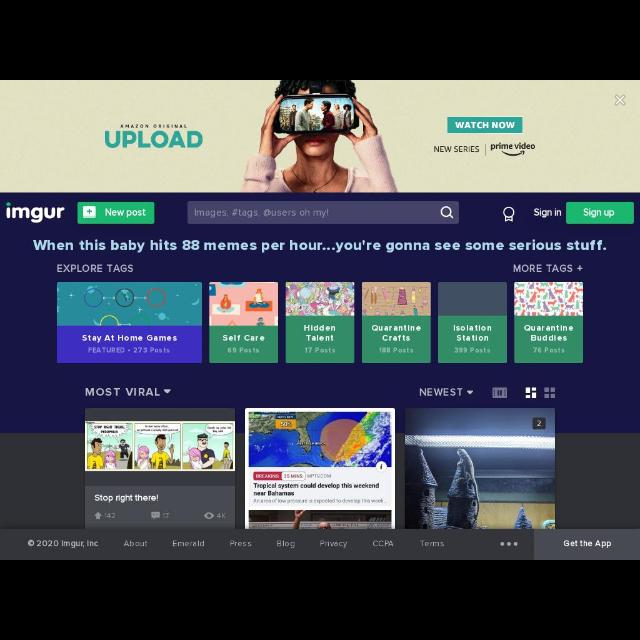icon: (502, 206, 516, 224), (440, 206, 454, 220), (492, 388, 508, 398), (524, 387, 536, 399), (500, 540, 518, 548), (84, 206, 95, 218), (545, 388, 555, 398), (151, 512, 159, 520), (204, 512, 214, 518), (95, 512, 102, 520), (163, 389, 170, 395), (577, 265, 583, 271), (465, 390, 473, 394)
iframe: (1, 80, 639, 192)
image: (407, 409, 555, 529), (250, 414, 392, 468), (86, 422, 234, 471), (57, 281, 203, 325), (208, 282, 278, 326), (249, 509, 391, 528), (362, 282, 431, 316), (286, 282, 354, 316), (514, 282, 582, 316), (438, 283, 508, 315), (5, 202, 64, 224)
input: (188, 200, 458, 226)
spinner: (84, 387, 172, 398), (418, 386, 474, 398)
text: (31, 238, 606, 254), (252, 482, 380, 496), (194, 208, 330, 220), (524, 322, 574, 343), (28, 536, 98, 550), (372, 324, 422, 342), (56, 264, 134, 274), (82, 335, 178, 343), (84, 387, 160, 397), (254, 497, 378, 503), (453, 324, 492, 342), (88, 346, 170, 354), (94, 494, 158, 504), (514, 263, 572, 273), (304, 323, 336, 341), (104, 206, 146, 218), (562, 538, 612, 548), (222, 334, 266, 344), (419, 388, 461, 398), (583, 208, 615, 218), (533, 346, 565, 356), (172, 539, 204, 549), (534, 206, 560, 218), (454, 346, 492, 354), (378, 346, 414, 354), (303, 346, 337, 354), (419, 538, 445, 548), (318, 540, 349, 548), (230, 539, 252, 549), (226, 346, 262, 352), (276, 540, 294, 550), (124, 540, 148, 546), (372, 540, 393, 546), (104, 512, 114, 520), (218, 512, 226, 520), (162, 512, 170, 518)
textbutton: (534, 531, 640, 559), (76, 202, 154, 222), (567, 203, 633, 225)
